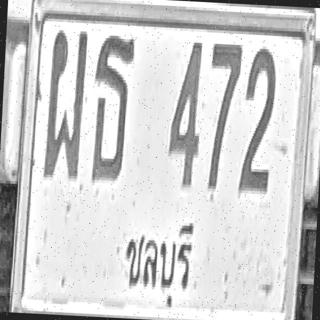A24: (90, 32, 135, 182)
A28: (43, 26, 88, 180)
N02: (238, 45, 278, 194)
N04: (166, 39, 204, 188)
N07: (205, 41, 242, 193)
P13: (112, 216, 198, 316)
